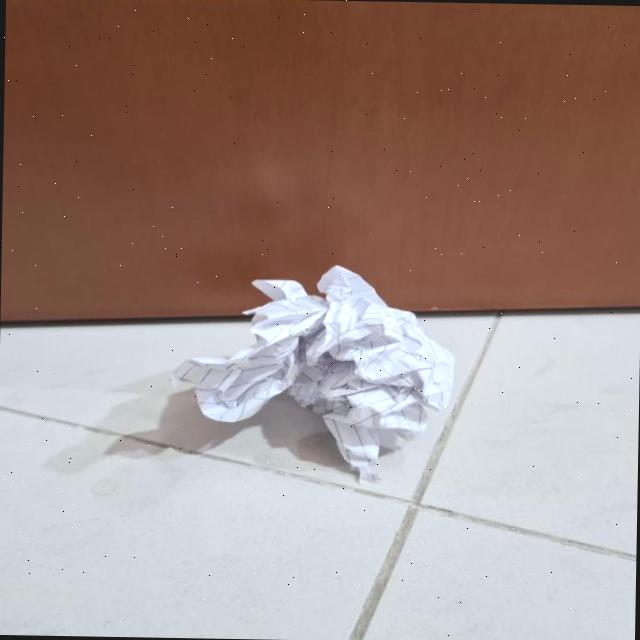trash: (197, 266, 448, 472)
